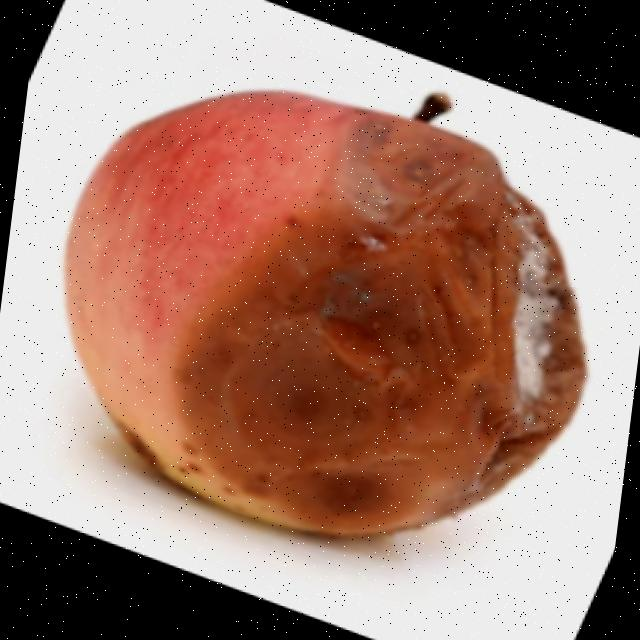Rotten: (29, 58, 624, 567)
